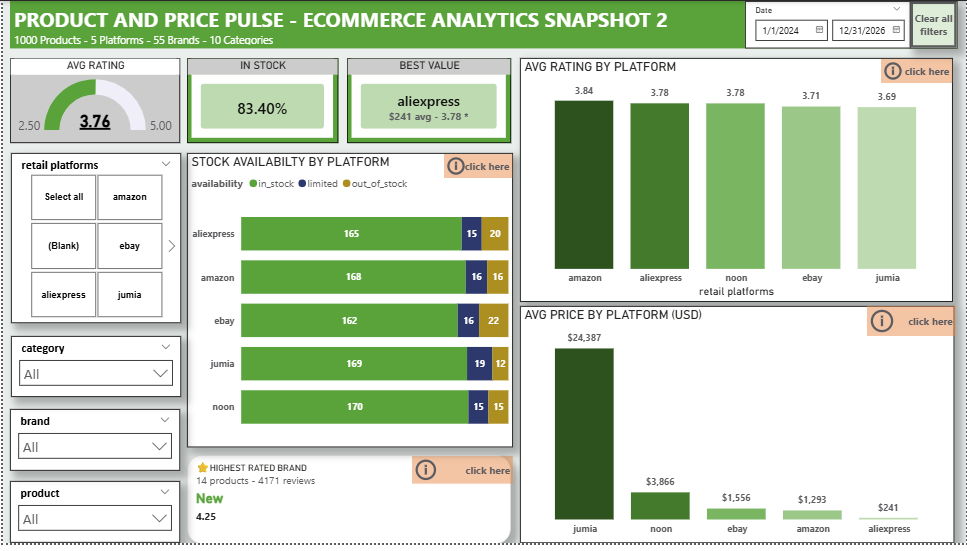

The dashboard page shown, as its layout file describes it:
{"tool":"powerbi","page":{"name":"Snapshot 2","canvas":[1280,720],"ordinal":1},"visuals":[{"type":"cardVisual","title":"IN STOCK","fields":{"Data":["ecommerce_dataset.In Stock %"]},"box":[244.4,75.7,200.6,112.9],"z":0},{"type":"columnChart","title":"AVG PRICE BY PLATFORM (USD)","fields":{"Category":["ecommerce_dataset.retail platforms"],"Y":["Avg(ecommerce_dataset.price_current)"]},"box":[686.8,405.4,577.5,314.6],"z":500,"group":"g4"},{"type":"cardVisual","title":"BEST VALUE","fields":{"Data":["Min(ecommerce_dataset.retail platforms)"]},"box":[457,75.7,217.9,112.9],"z":1000},{"type":"group","id":"g1","title":"Group 2","box":[244.9,602.5,432.6,118],"z":2000},{"type":"group","id":"g2","title":"Group 6","box":[244.4,201.9,433.1,390.6],"z":3000},{"type":"gauge","title":"AVG RATING","fields":{"Y":["Avg(ecommerce_dataset.rating_score)"],"MinValue":["Min(ecommerce_dataset.rating_score)1"],"MaxValue":["Max(ecommerce_dataset.rating_score)"]},"box":[9.3,75.7,225.8,112.9],"z":5000},{"type":"group","id":"g3","title":"Group 4","box":[686.8,75.7,575.2,324.1],"z":6000},{"type":"group","id":"g4","title":"Group 5","box":[686.8,405.2,579.2,314.8],"z":7000},{"type":"textbox","box":[8.9,0,1255,62.6],"z":8000},{"type":"slicer","fields":{"Values":["Date Table.Date"]},"box":[985,0,219.9,62.6],"z":9000},{"type":"multiRowCard","title":"⭐HIGHEST RATED BRAND","fields":{"Values":["ecommerce_dataset.brand","Avg(ecommerce_dataset.rating_score)"]},"box":[244.9,602.5,430.2,118],"z":9000,"group":"g1"},{"type":"slicer","fields":{"Values":["ecommerce_dataset.product"]},"box":[9,637.8,225.6,82.2],"z":10000},{"type":"slicer","fields":{"Values":["ecommerce_dataset.retail platforms"]},"box":[10.6,201.9,225.8,225.8],"z":11000},{"type":"hundredPercentStackedBarChart","title":"STOCK AVAILABILTY BY PLATFORM","fields":{"Category":["ecommerce_dataset.retail platforms"],"Series":["ecommerce_dataset.availability"],"Y":["CountNonNull(ecommerce_dataset.product)"]},"box":[244.4,201.9,433.1,390.6],"z":11000,"group":"g2"},{"type":"slicer","fields":{"Values":["ecommerce_dataset.brand"]},"box":[9,542.2,225.6,82.2],"z":12000},{"type":"slicer","fields":{"Values":["ecommerce_dataset.category"]},"box":[10.5,445.1,225.6,80.7],"z":13000},{"type":"actionButton","box":[1205.5,0,62.7,62.7],"z":14000},{"type":"actionButton","box":[585.4,203,90.8,31.9],"z":16000,"group":"g2"},{"type":"clusteredColumnChart","title":"AVG RATING BY PLATFORM","fields":{"Category":["ecommerce_dataset.retail platforms"],"Y":["Avg(ecommerce_dataset.rating_score)"]},"box":[686.8,75.7,575.2,324.1],"z":17000,"group":"g3"},{"type":"actionButton","box":[1148.1,405.2,117.9,39.8],"z":17000,"group":"g4"},{"type":"actionButton","box":[1166.7,76.4,94.7,31.9],"z":23000,"group":"g3"},{"type":"actionButton","box":[543.2,603.3,134.4,36.8],"z":25000,"group":"g1"}]}

Visuals, with their boxes in screenshot pixels (x1, y1, x2, y2), scaled from the page's 1280x720 canvas onto the 967x551 screenshot:
"IN STOCK" cardVisual: rect(185, 58, 336, 144)
"AVG PRICE BY PLATFORM (USD)" columnChart: rect(519, 310, 955, 550)
"BEST VALUE" cardVisual: rect(345, 58, 510, 144)
"Group 2" group: rect(185, 461, 512, 550)
"Group 6" group: rect(185, 155, 512, 453)
"AVG RATING" gauge: rect(7, 58, 178, 144)
"Group 4" group: rect(519, 58, 953, 306)
"Group 5" group: rect(519, 310, 956, 550)
textbox: rect(7, 0, 955, 48)
slicer - Date Table.Date: rect(744, 0, 910, 48)
"⭐HIGHEST RATED BRAND" multiRowCard: rect(185, 461, 510, 550)
slicer - ecommerce_dataset.product: rect(7, 488, 177, 550)
slicer - ecommerce_dataset.retail platforms: rect(8, 155, 179, 327)
"STOCK AVAILABILTY BY PLATFORM" hundredPercentStackedBarChart: rect(185, 155, 512, 453)
slicer - ecommerce_dataset.brand: rect(7, 415, 177, 478)
slicer - ecommerce_dataset.category: rect(8, 341, 178, 402)
actionButton: rect(911, 0, 958, 48)
actionButton: rect(442, 155, 511, 180)
"AVG RATING BY PLATFORM" clusteredColumnChart: rect(519, 58, 953, 306)
actionButton: rect(867, 310, 956, 341)
actionButton: rect(881, 58, 953, 83)
actionButton: rect(410, 462, 512, 490)
